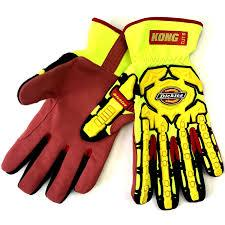gloves: (81, 16, 224, 211), (1, 17, 134, 205)
